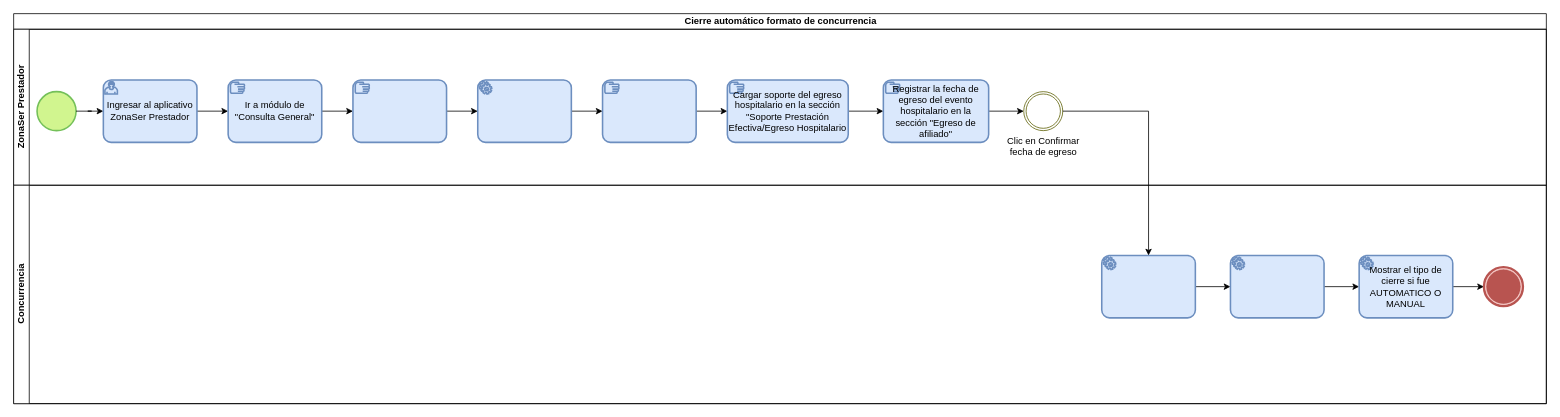
This 1560x417 diagram has some shape labels left out. The shapes that lost their labels are listed below. From the top down, each one's centre as x and y in pixels, then its label:
pixel 399 111: Buscar la solicitud de servicio A3 de ámbito hospitalario
pixel 524 111: Mostrar página de resultados de acuerdo con los parámetros de la búsqueda
pixel 649 111: Dar clic en en el icono de "Ver solicitud" de la columna "Respuesta Solicitud"
pixel 1148 286: Cerrar formato de concurrencia asociado al A3
pixel 1276 286: Cambiar estado del formato a "CERRADO" y resaltar el texto de color azul
